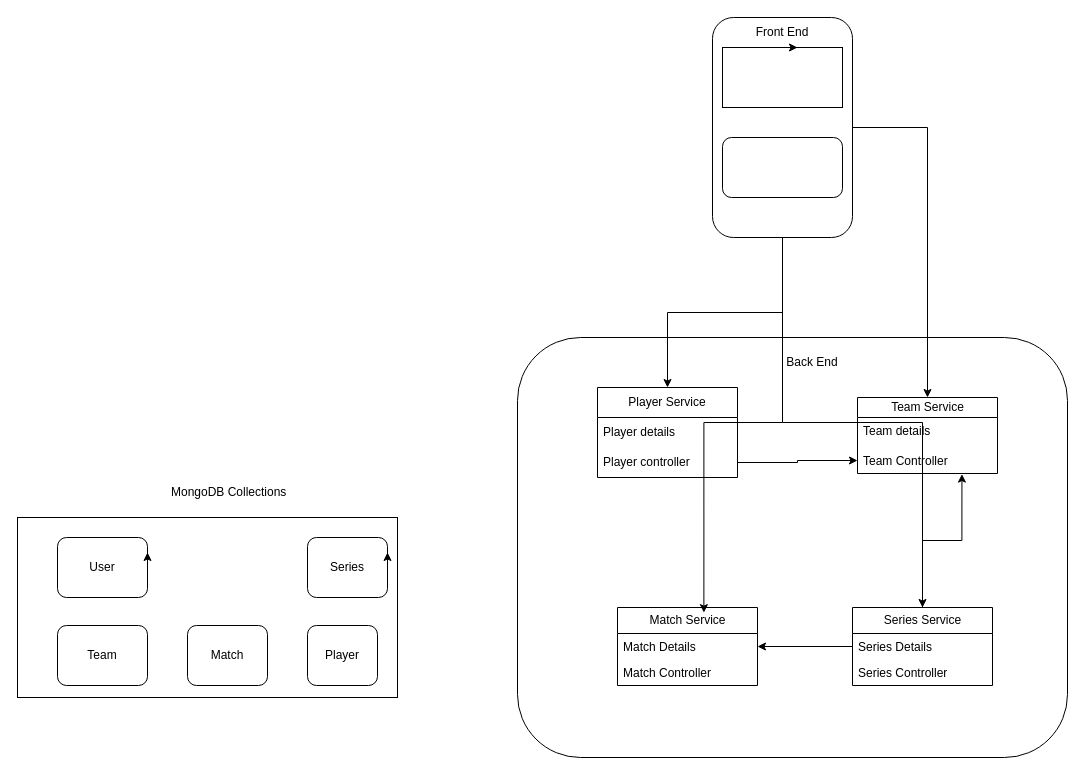
Some shapes in this 1085 by 775 pixel diagram are drawn without their labels. Here are the shapes that lost their labels. From the top down, the centre of each, then its label:
(782,77): Web UI
(782,167): Eureka Server
